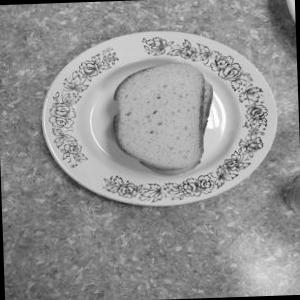bread: (93, 55, 217, 181)
